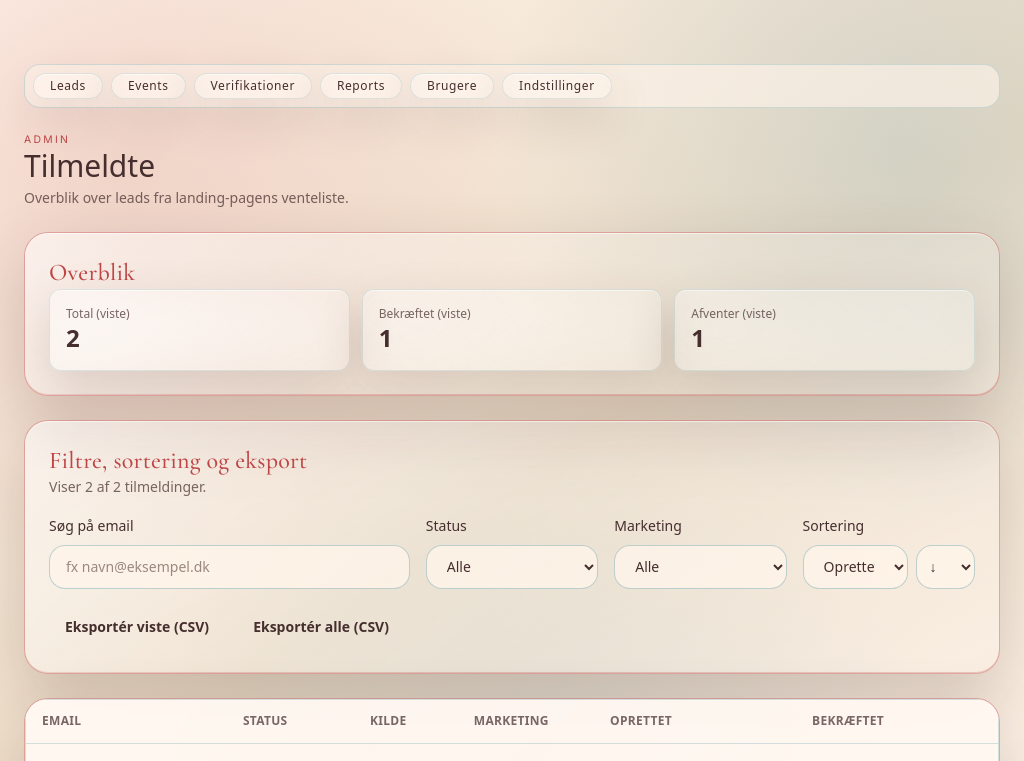
AdminPage › renders summary, supports filtering, and shows export actions
Expected: the text "Viser 2 af 2 tilmeldinger." is shown, [49,477,206,496]
Expected: the button "Eksportér viste (CSV)" is shown, [49,605,225,649]
Select "Bekræftet" in the dropdown labelled "Status". click: (512, 567)
box: [426,545,598,589]
(page scrolled)
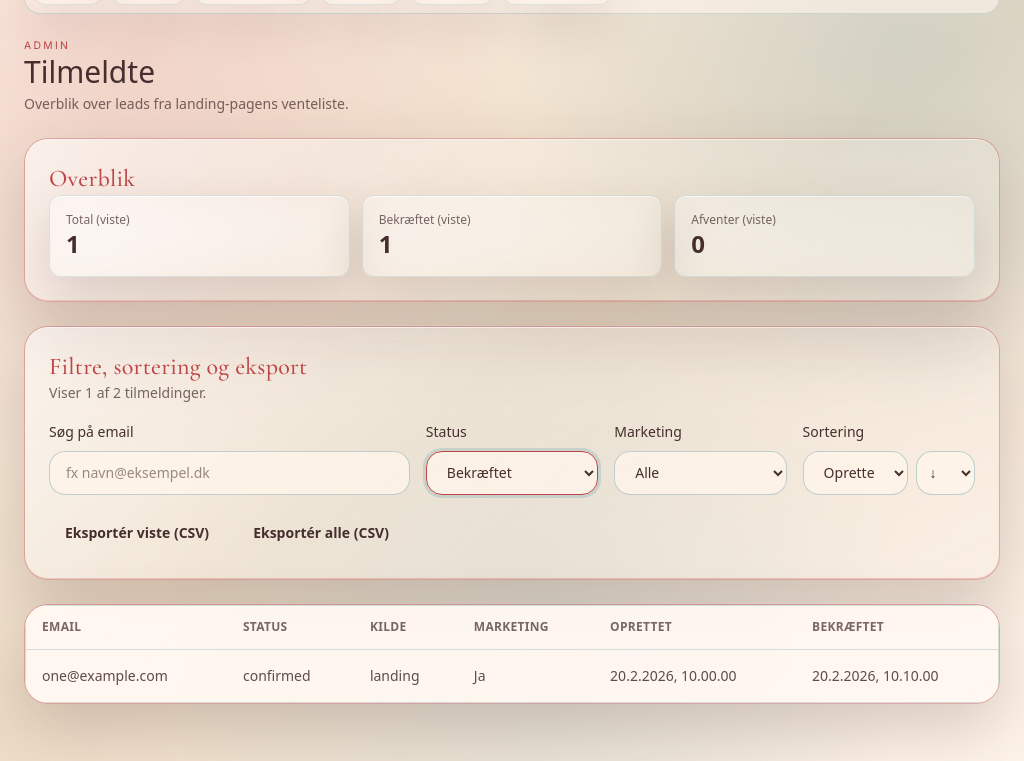
Expected: the text "one@example.com" is shown, [26,650,227,702]
Result: the text "Viser 1 af 2 tilmeldinger." is shown at [49,383,206,402]
